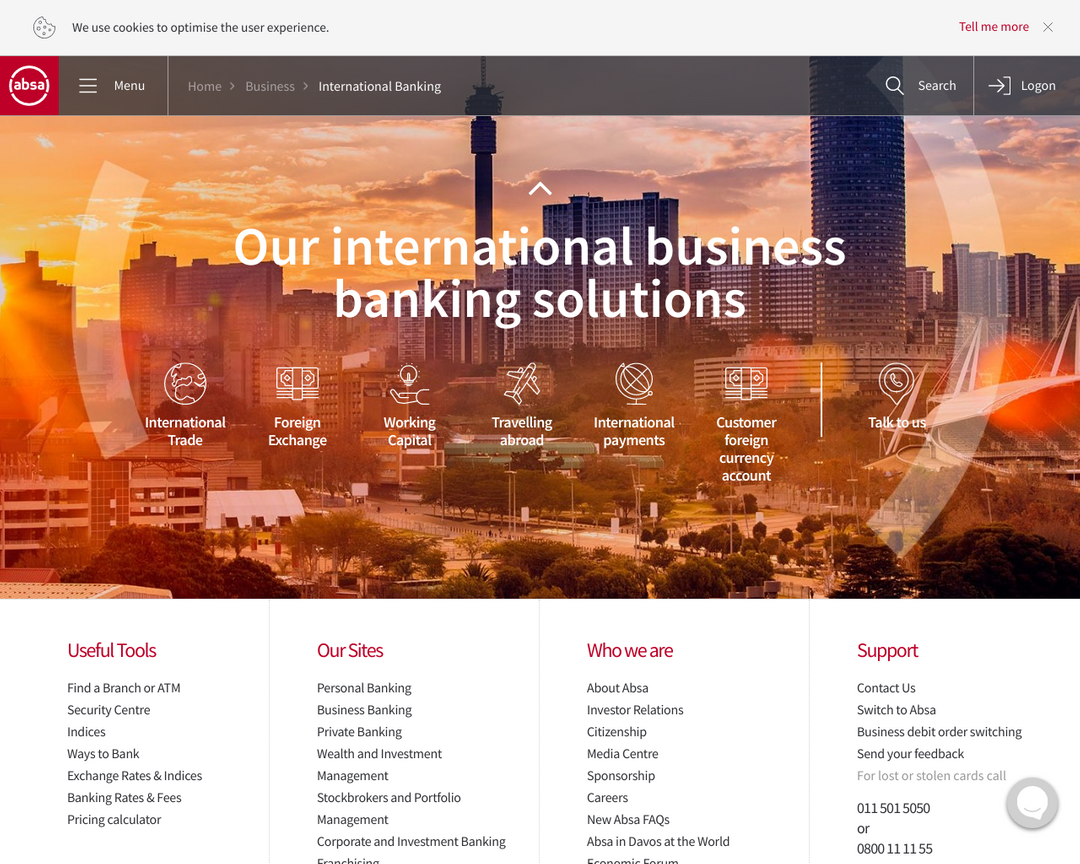ABSA: (7, 65, 51, 108)
